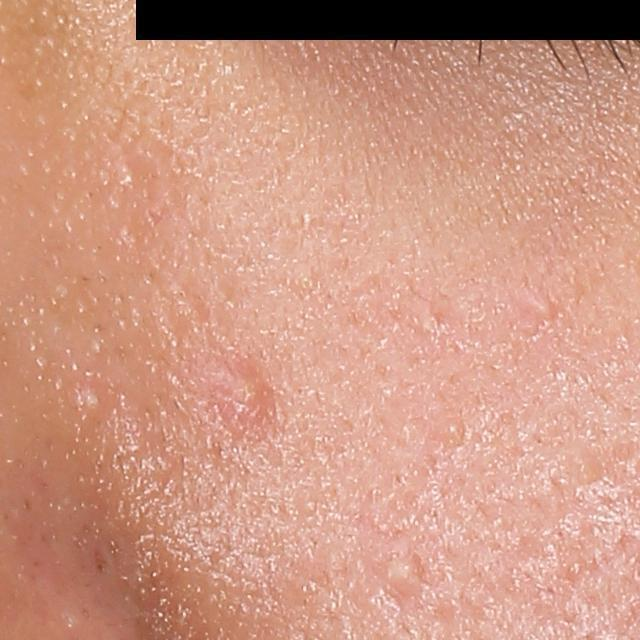comedo: (113, 155, 143, 188), (78, 386, 107, 415), (440, 415, 466, 441)
papule: (207, 359, 272, 426), (378, 538, 432, 597)
